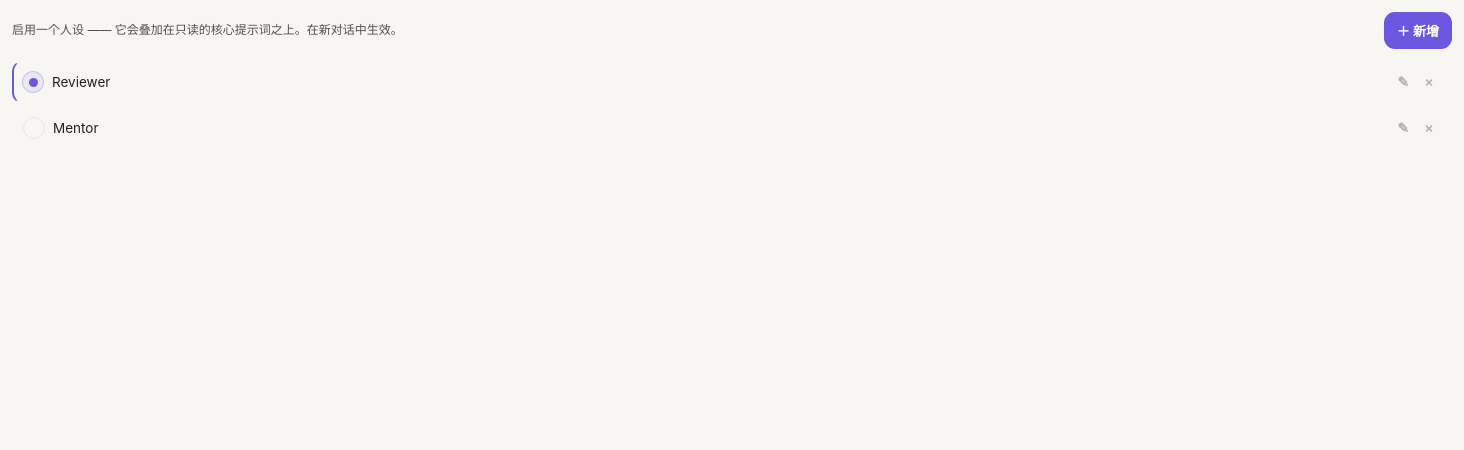
Test: PersonasPanel › add form will not submit without name and content
The image size is (1464, 450).
Click the button "＋ 新增".
click(1418, 30)  # box [1384,12,1452,49]
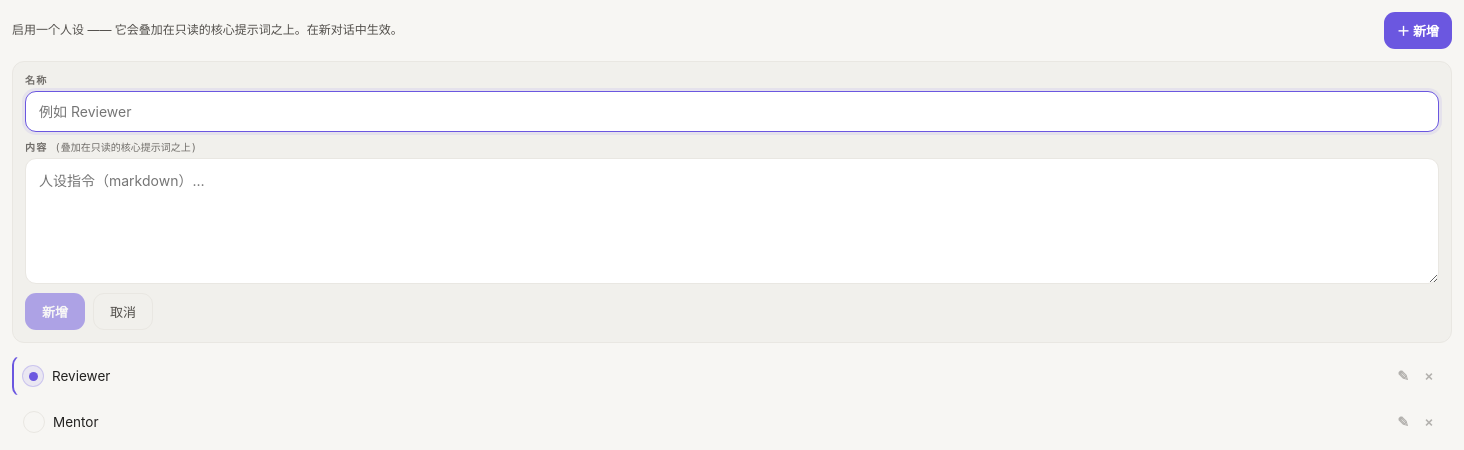
Result: the button "新增" is disabled at [25,293,85,330]
